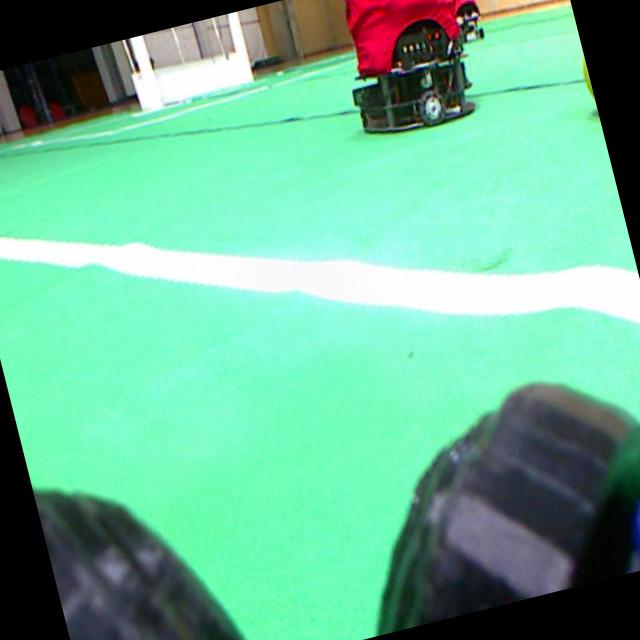goal: (130, 35, 161, 109), (227, 11, 253, 82)
